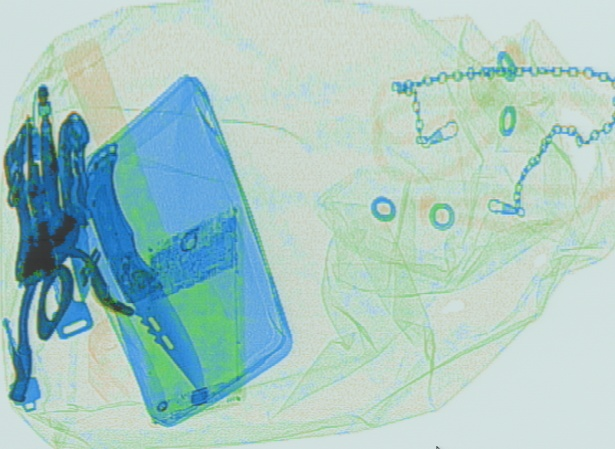knife: (77, 140, 204, 393), (52, 109, 94, 303)
